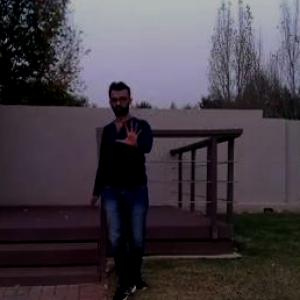follow_hand: (114, 114, 145, 152)
